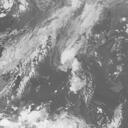cyclone: (58, 49, 91, 99)
